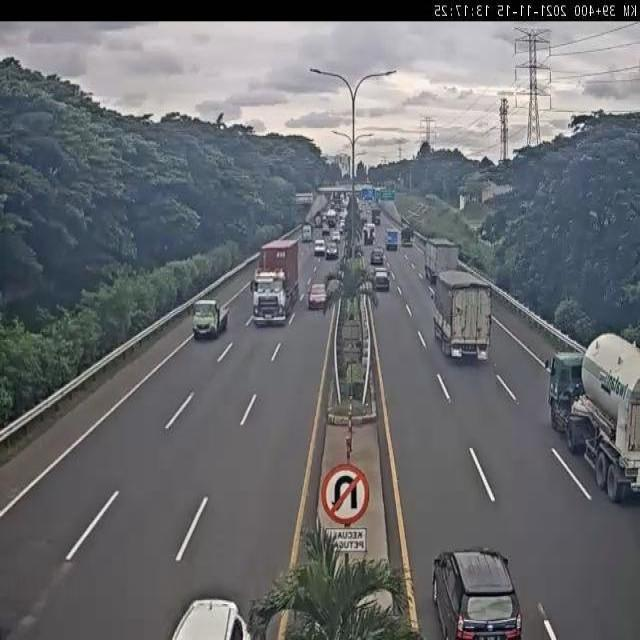Car: (430, 548, 521, 640), (168, 596, 251, 640), (308, 282, 330, 310), (371, 266, 392, 292), (326, 242, 339, 259), (371, 248, 384, 264), (313, 239, 325, 255), (330, 231, 340, 243), (320, 225, 330, 236)
Truck: (540, 329, 640, 504), (430, 268, 494, 362), (251, 239, 301, 329), (188, 299, 229, 342), (423, 237, 462, 281), (384, 227, 399, 250), (401, 226, 414, 248), (363, 223, 376, 245), (300, 222, 314, 242), (371, 208, 382, 225), (327, 209, 337, 227)
